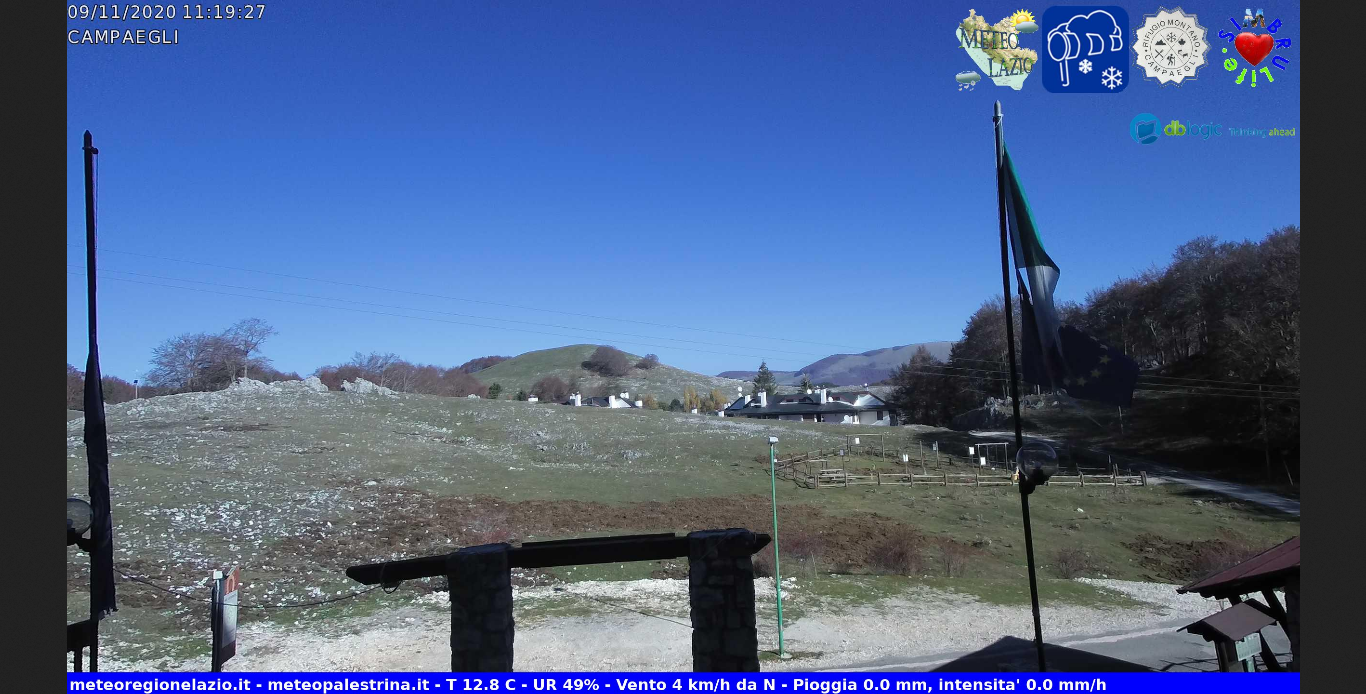no: (978, 97, 1082, 406), (75, 126, 129, 635)
